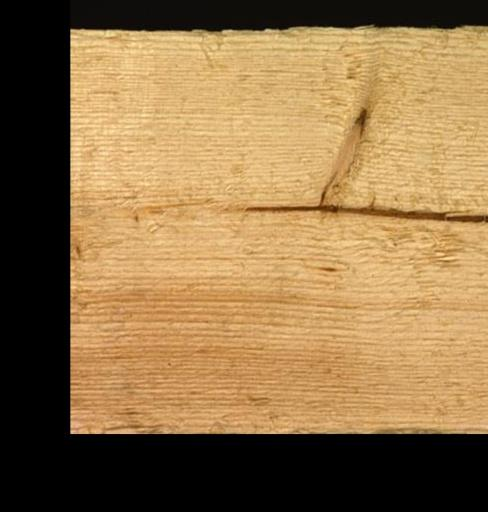small_knot: (70, 238, 93, 258)
